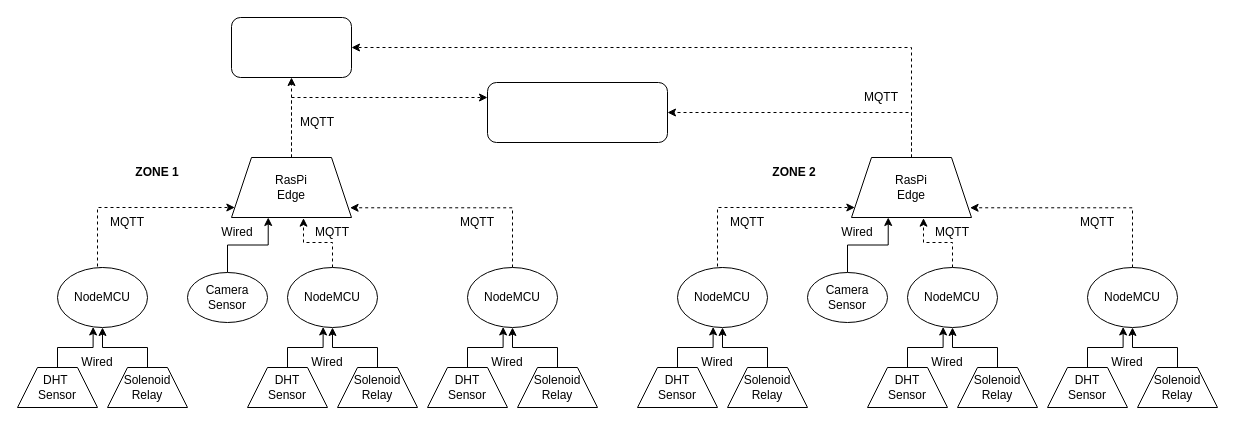
Image size: 1235x425. Some labels were removed from this diagram. The shapes that lost their labels are listed below. From the top down, each one's box as (x1, y1, x2, y2) in pixels, then its label:
(230, 16, 352, 78): Thingsboard Server
(486, 82, 668, 142): External MQTT Server [3rd party android app, Customised vendor dashboards]
